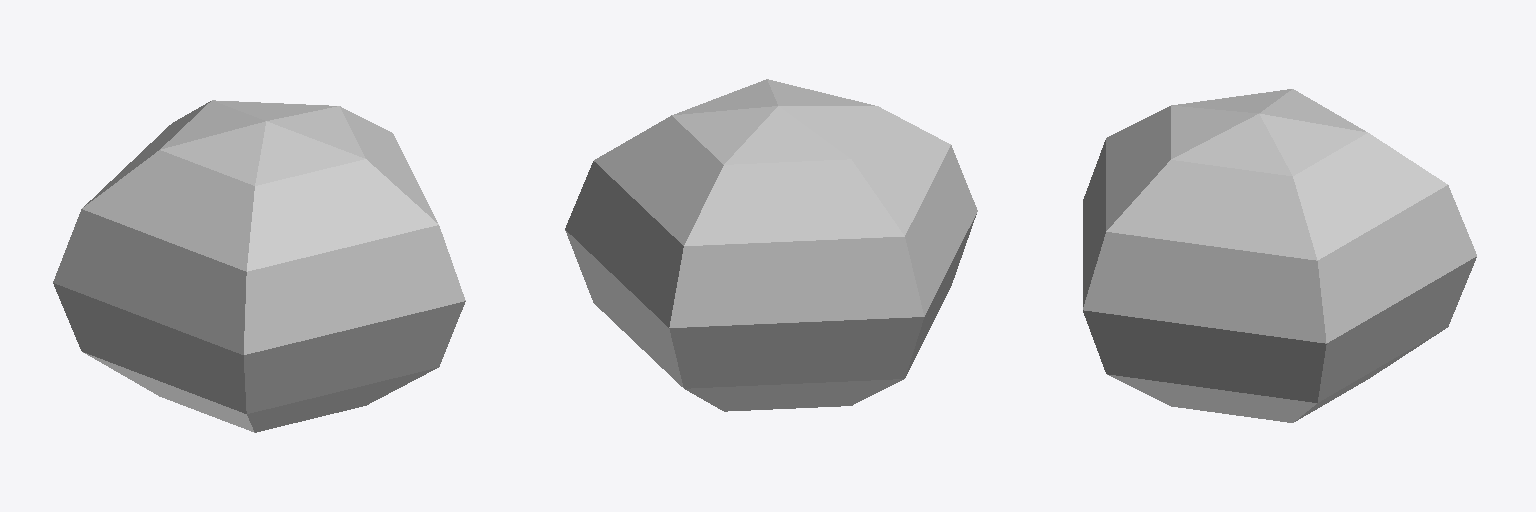
File: sutr.obj
The picture shows the model from 3 angles: view 1: azimuth 30°, elevation 25°; view 2: azimuth 150°, elevation 25°; view 3: azimuth 270°, elevation 25°; orthographic projection.
Parts seen in each view (by area): view 1: Sphere; view 2: Sphere; view 3: Sphere.
Part boxes in pixels (bbox=[...]): Sphere: bbox=[53, 100, 465, 432]; Sphere: bbox=[565, 79, 977, 411]; Sphere: bbox=[1083, 89, 1476, 422].
Size of the model in its own units: 1.9 by 1.44 by 1.81.